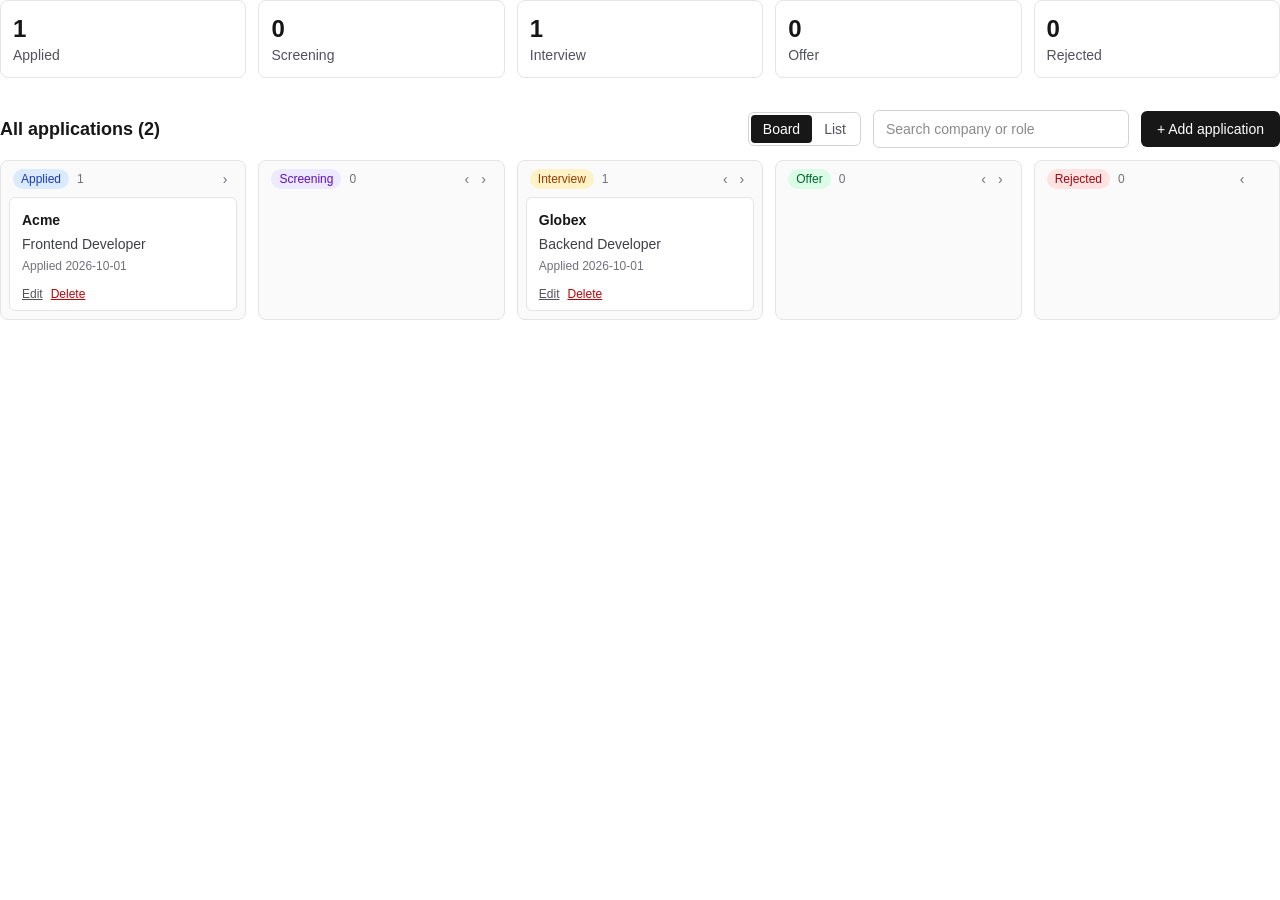
Tracker › shows an error and keeps the dialog open when saving fails
The width and height of the screenshot is (1280, 900).
Click the button "+ Add application" at (1210, 129), box [1141,111,1279,147]
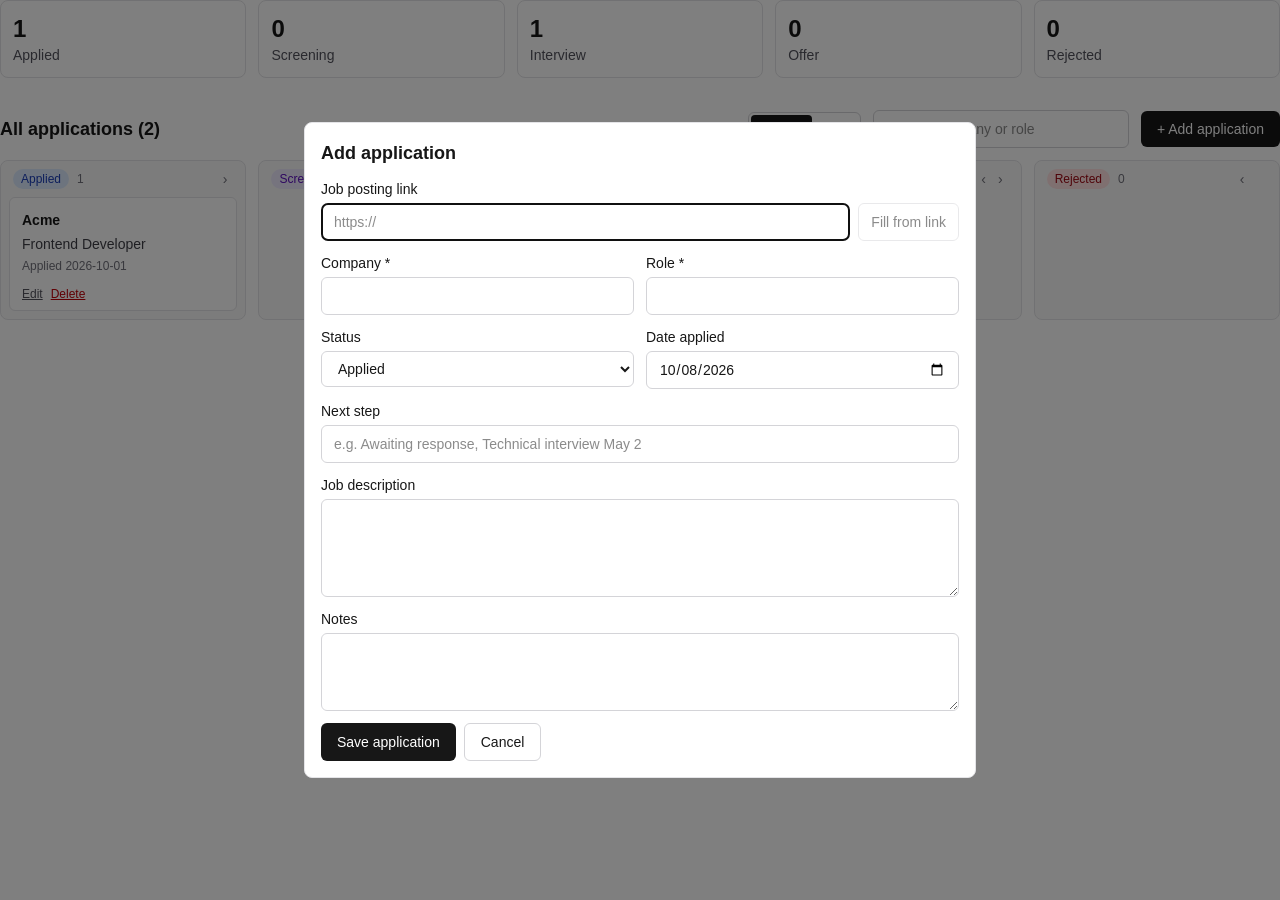
Type "Initech" into the field labelled "Company *" at (478, 296), box [321,277,634,315]
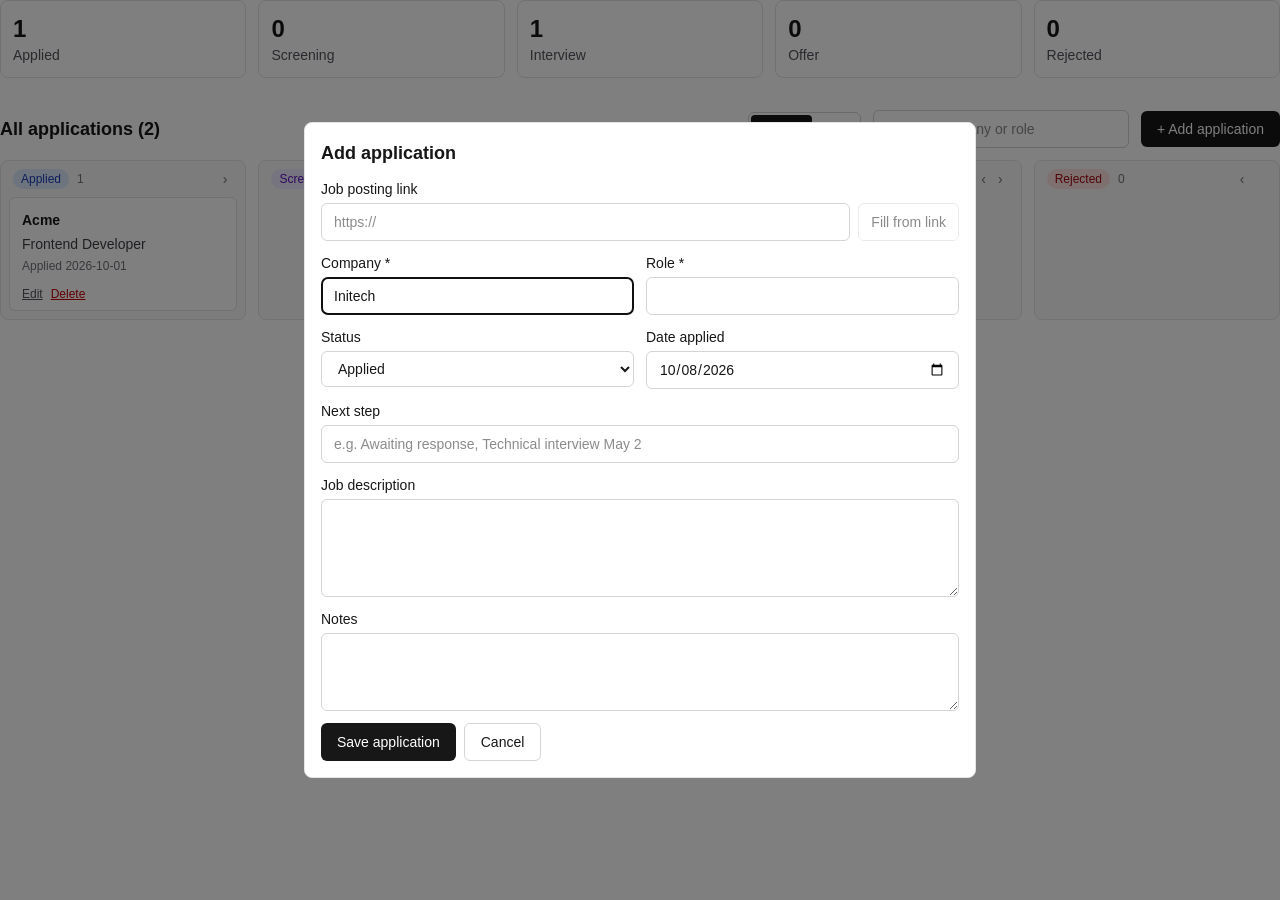
Type "QA Engineer" into the field labelled "Role *" at (802, 296), box [646,277,959,315]
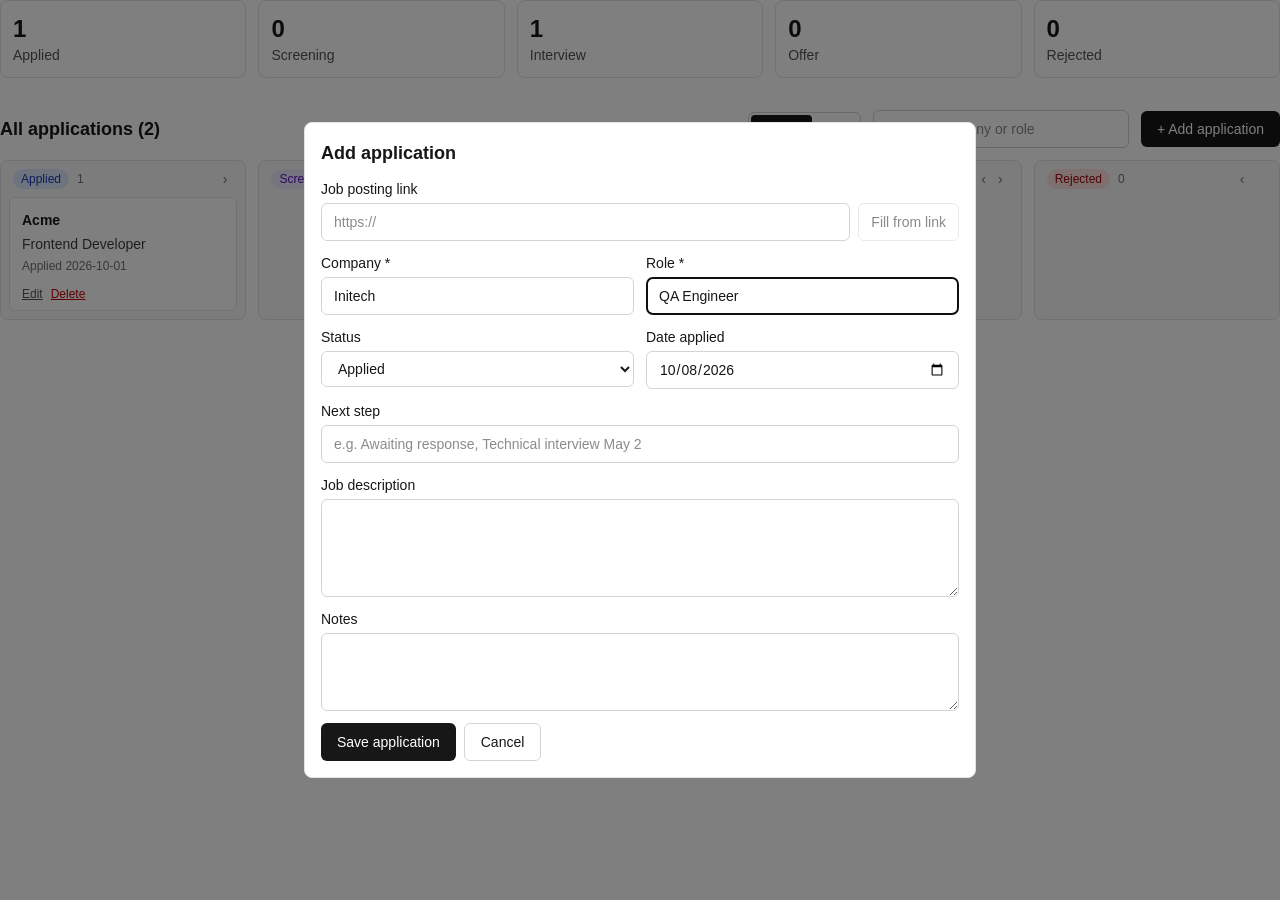
Click the button "Save application" at (388, 742), box [321,723,456,761]
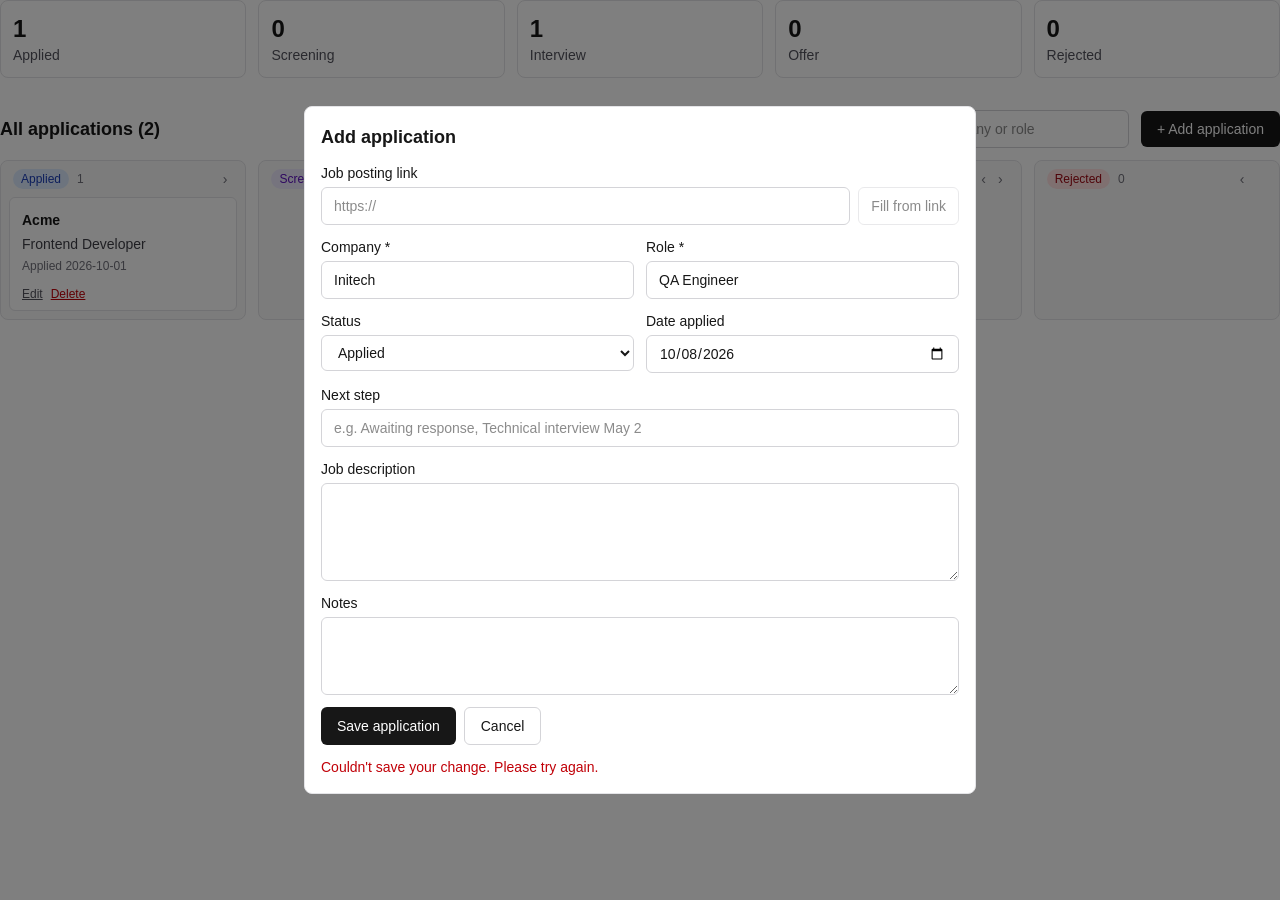
Check: the message shows "Couldn't save your change", box [321,759,598,775]
